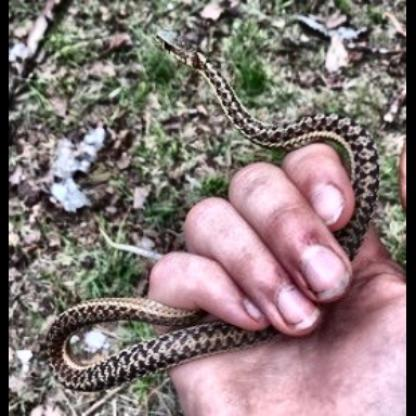Snake: (149, 24, 386, 167), (43, 292, 254, 389)
